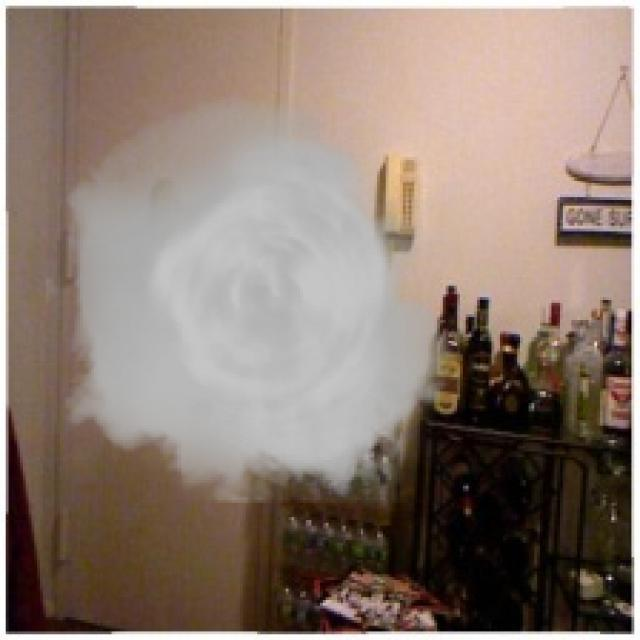Smoke: (46, 97, 463, 503)
